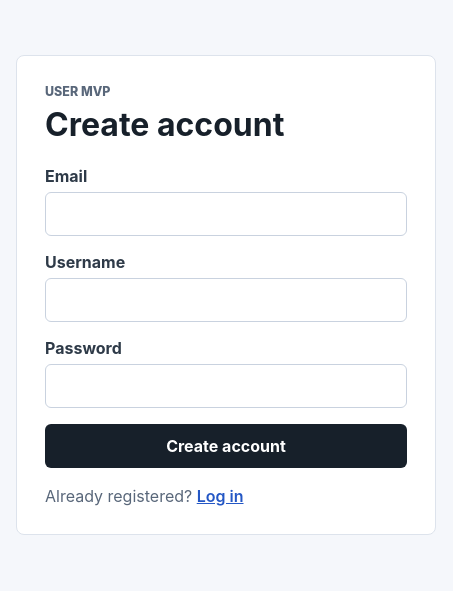
Test: Register › shows validation errors
Click the button "Create account".
click(226, 446)  # box [45, 424, 407, 468]
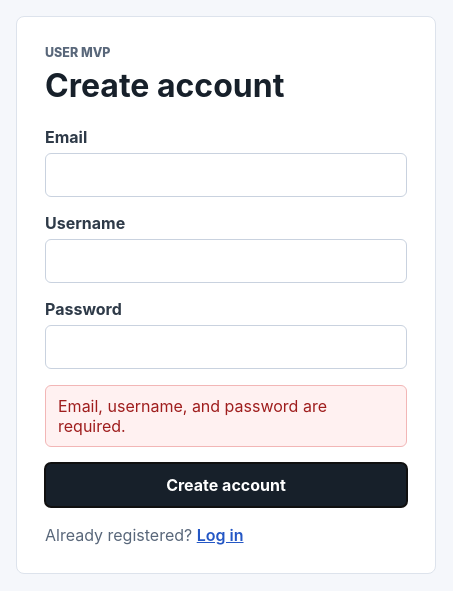
Now the message reads "Email, username, and password are required.", box [58, 396, 327, 436]
